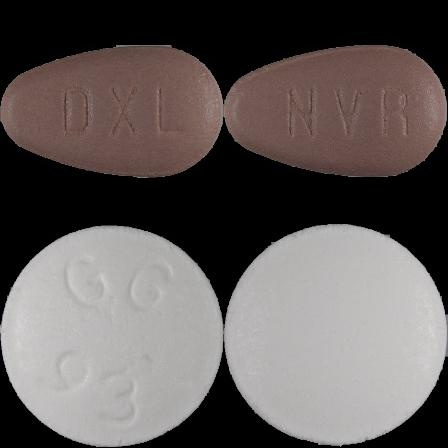55289-876: (0, 0, 224, 224)
